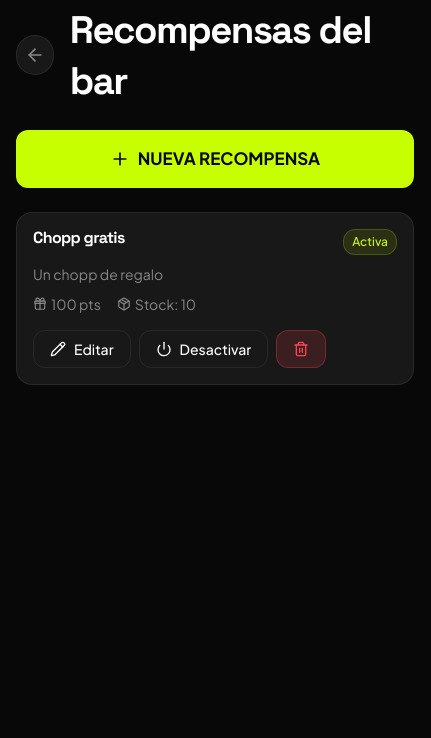
Test: BarRewardsView (LB-67) › blocks submission and shows a validation error when the name is empty
The width and height of the screenshot is (431, 738).
expect the heading "Chopp gratis" is shown: met, box x1=33 y1=229 x2=125 y2=246
Click the button "NUEVA RECOMPENSA": (215, 159) x1=16 y1=130 x2=414 y2=188
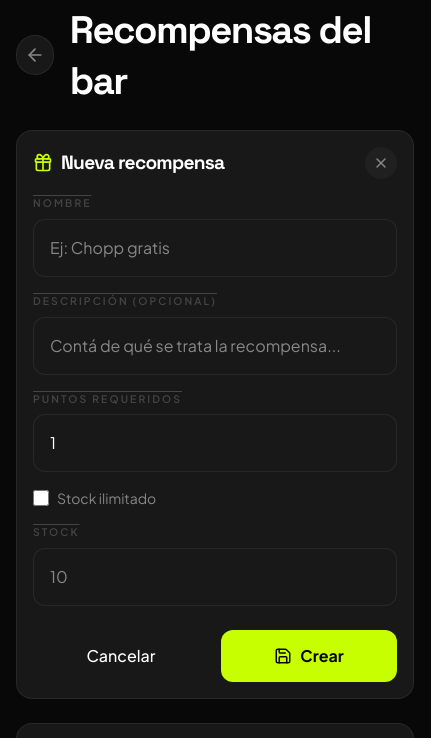
Replace the text in the number field named "PUNTOS REQUERIDOS" with "50": (215, 443) x1=33 y1=414 x2=397 y2=472
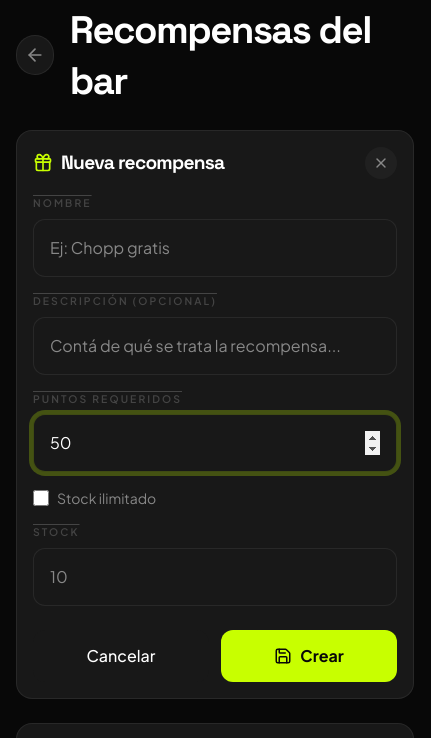
Click the button "Crear": (309, 656) x1=221 y1=630 x2=397 y2=682
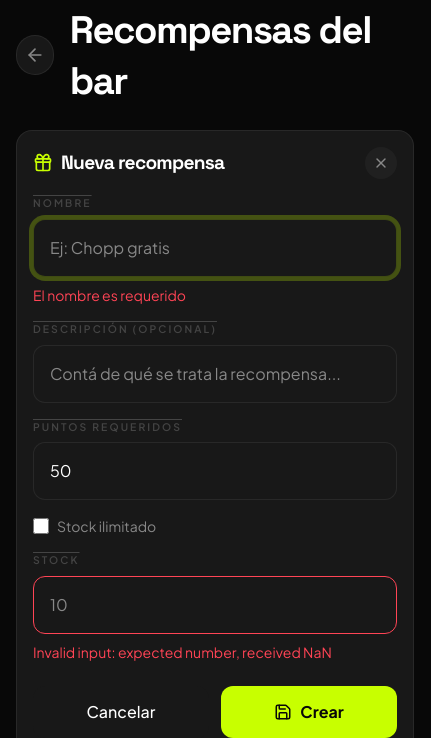
expect the text "El nombre es requerido" is shown: met, box x1=33 y1=286 x2=186 y2=304
